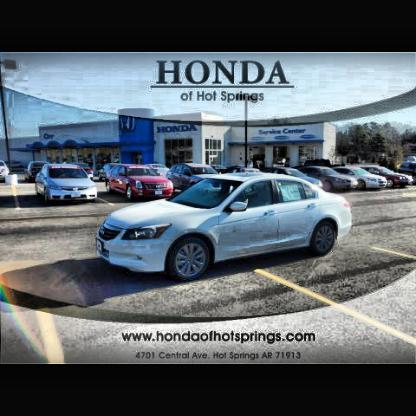Honda Accord Sedan 2012: (97, 175, 354, 280)
